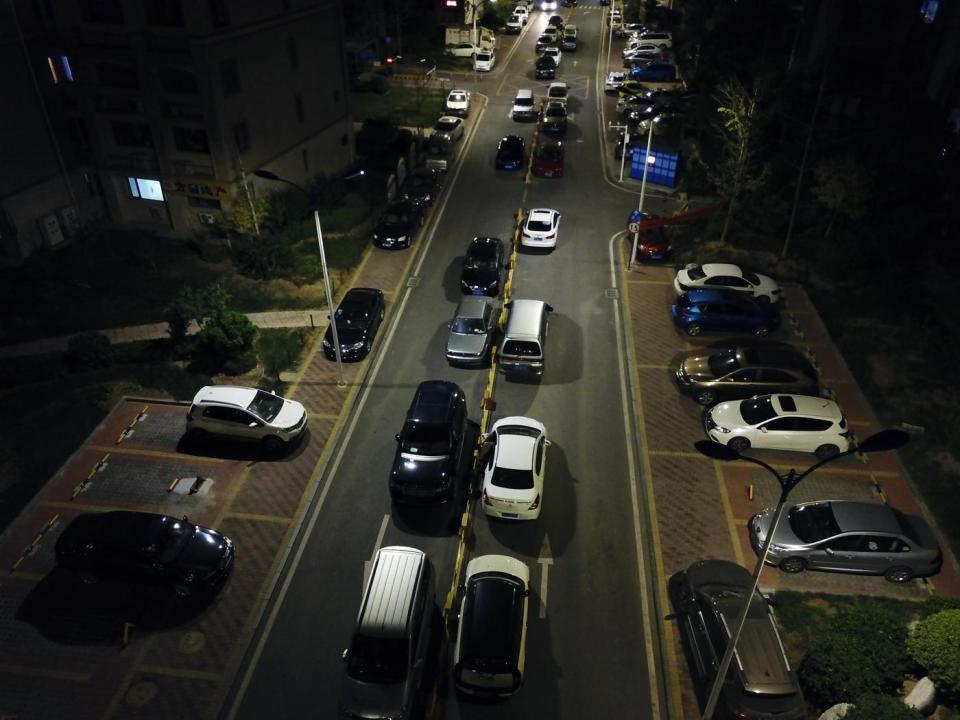car: (674, 553, 816, 720), (747, 485, 945, 582), (54, 511, 235, 596), (452, 552, 542, 699), (389, 377, 468, 510), (700, 391, 852, 460), (675, 339, 822, 400), (479, 414, 556, 524), (180, 383, 310, 446), (671, 288, 791, 342), (324, 283, 385, 364), (668, 262, 782, 303), (442, 293, 496, 366), (460, 231, 507, 302), (371, 198, 424, 250), (627, 207, 675, 263), (520, 206, 566, 254), (400, 165, 446, 208), (639, 111, 704, 140), (627, 104, 691, 128), (614, 91, 668, 117), (629, 88, 688, 110), (628, 59, 679, 84), (534, 141, 566, 180), (428, 115, 465, 146), (614, 129, 651, 160), (496, 134, 526, 170), (622, 49, 668, 72), (542, 101, 568, 135), (621, 45, 667, 63), (445, 86, 472, 116), (513, 88, 535, 120), (603, 68, 629, 95), (614, 22, 657, 38), (621, 80, 652, 102), (444, 42, 482, 59), (532, 56, 558, 80), (472, 51, 497, 72), (540, 47, 563, 68), (505, 13, 525, 33), (512, 4, 528, 26), (607, 12, 625, 31), (536, 34, 554, 51), (542, 24, 559, 40), (608, 3, 624, 20), (560, 35, 576, 51), (546, 14, 563, 28), (540, 0, 558, 11), (518, 0, 534, 12)
truck: (442, 27, 496, 50), (543, 80, 571, 107)
van: (338, 544, 435, 720), (497, 298, 556, 379), (423, 131, 456, 171), (624, 29, 674, 52), (561, 21, 581, 40)
